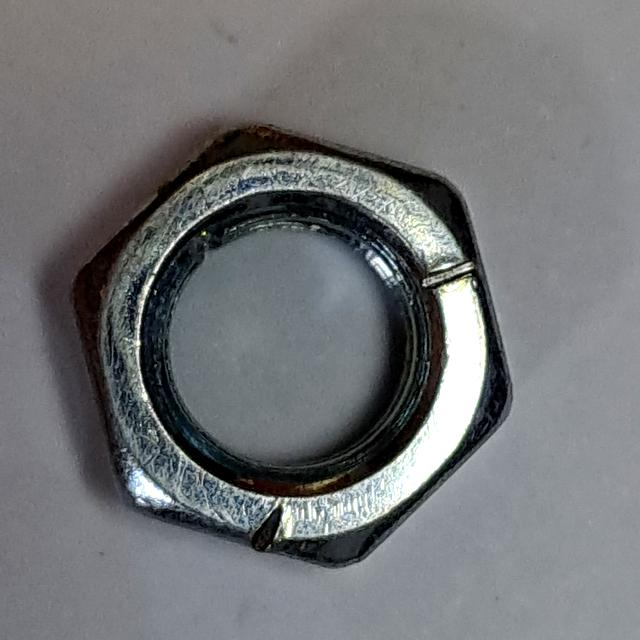Scratches: (53, 102, 536, 589)
